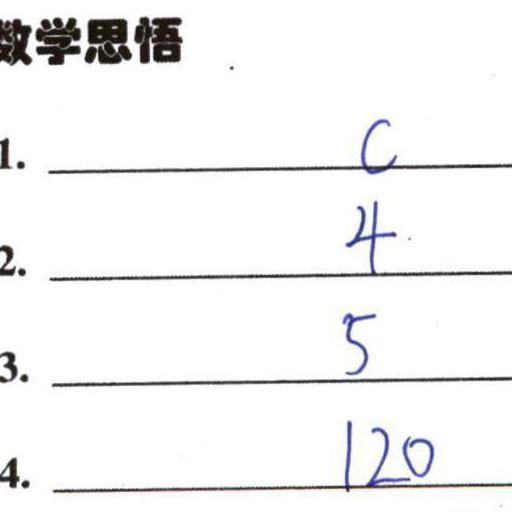ans: (332, 411, 435, 491), (339, 193, 396, 273), (332, 301, 376, 376), (352, 111, 400, 176)
